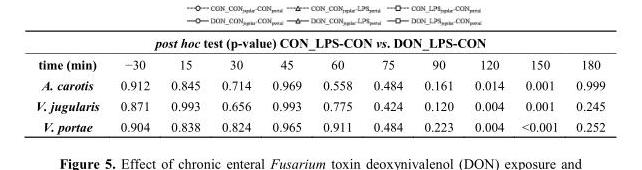table: (34, 35, 604, 133)
table column: (34, 35, 109, 133), (512, 35, 566, 133), (159, 35, 210, 133), (210, 35, 261, 133), (311, 35, 362, 133), (412, 35, 463, 133), (109, 35, 159, 133), (261, 35, 311, 133), (362, 35, 412, 133), (463, 35, 512, 133), (566, 35, 604, 133)
table column header: (34, 35, 604, 74)
table row: (34, 53, 604, 74), (34, 74, 604, 95), (34, 95, 604, 115), (34, 35, 604, 53), (34, 115, 604, 133)
table spanning cell: (34, 35, 604, 53)
